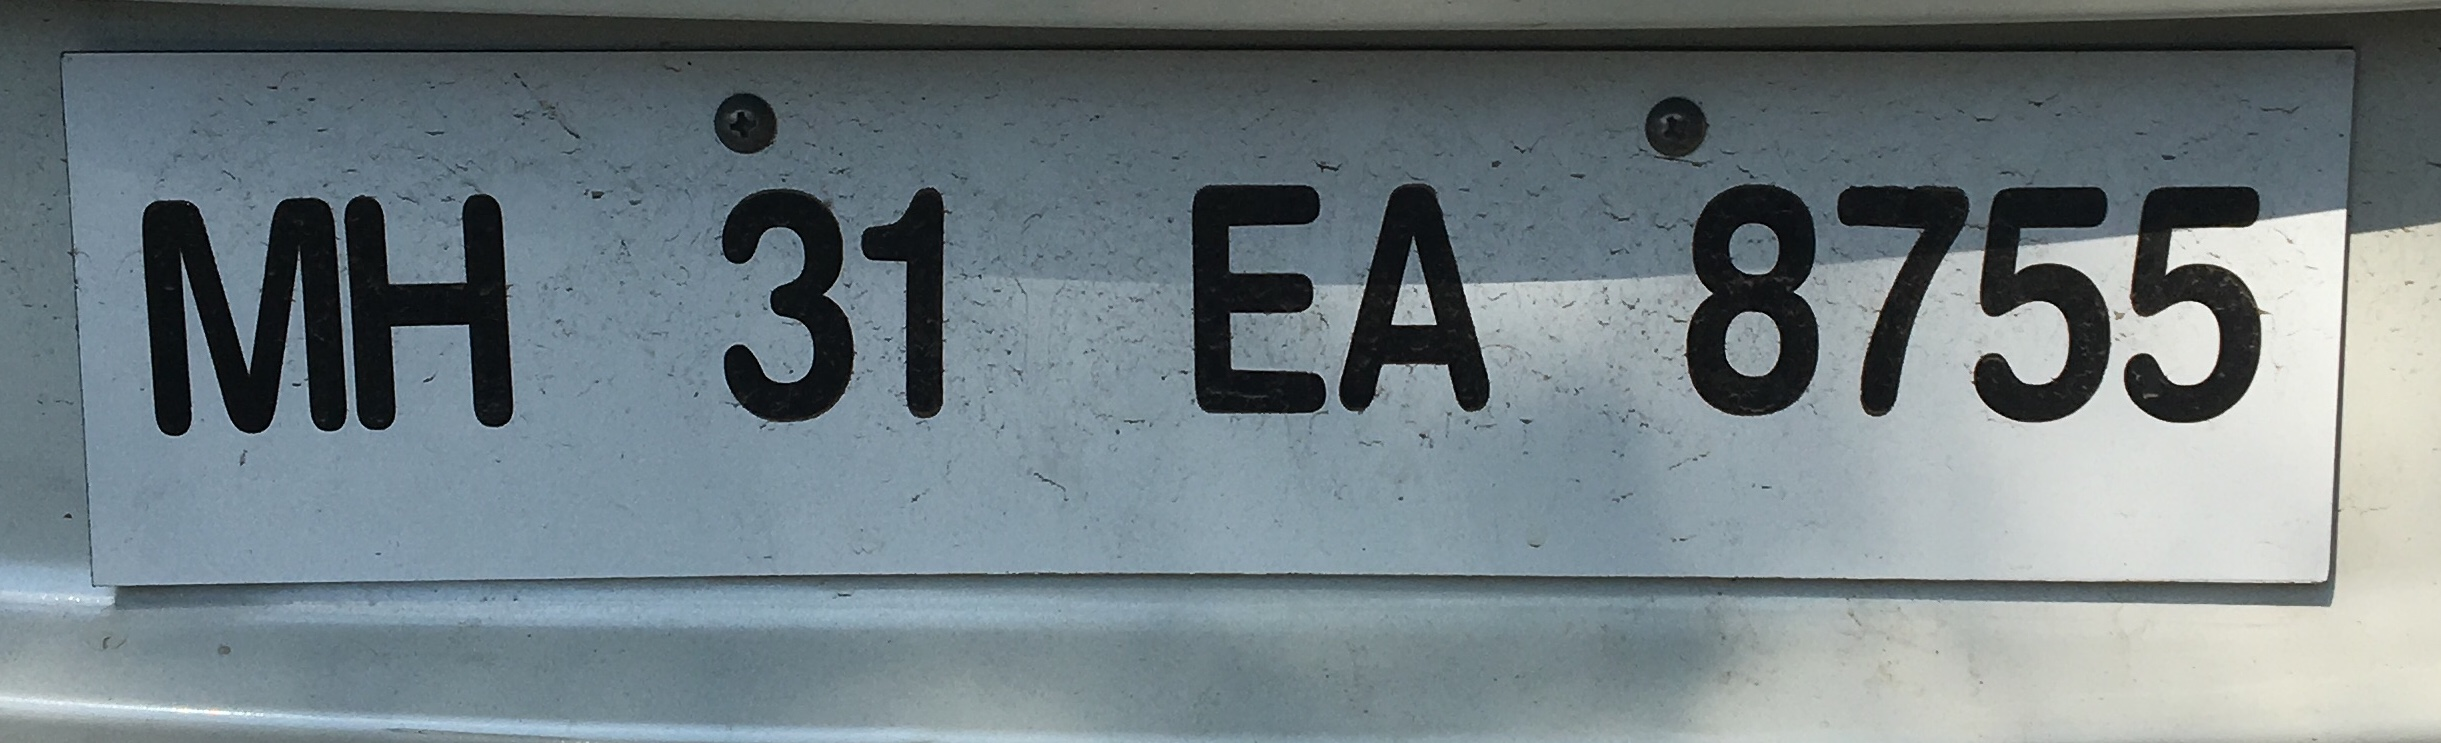numberplate: (55, 44, 2348, 592)
